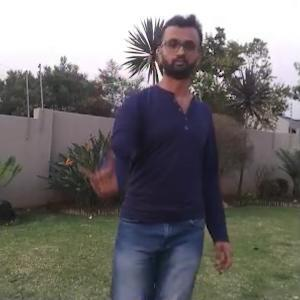takeoff-hand: (83, 149, 120, 210)
